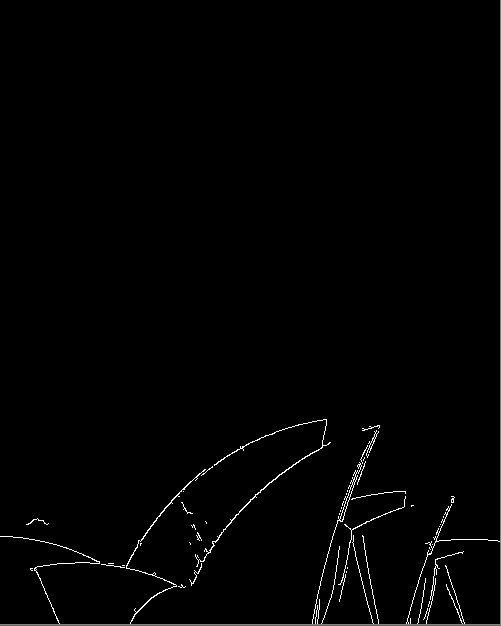opera house: (11, 372, 499, 623)
